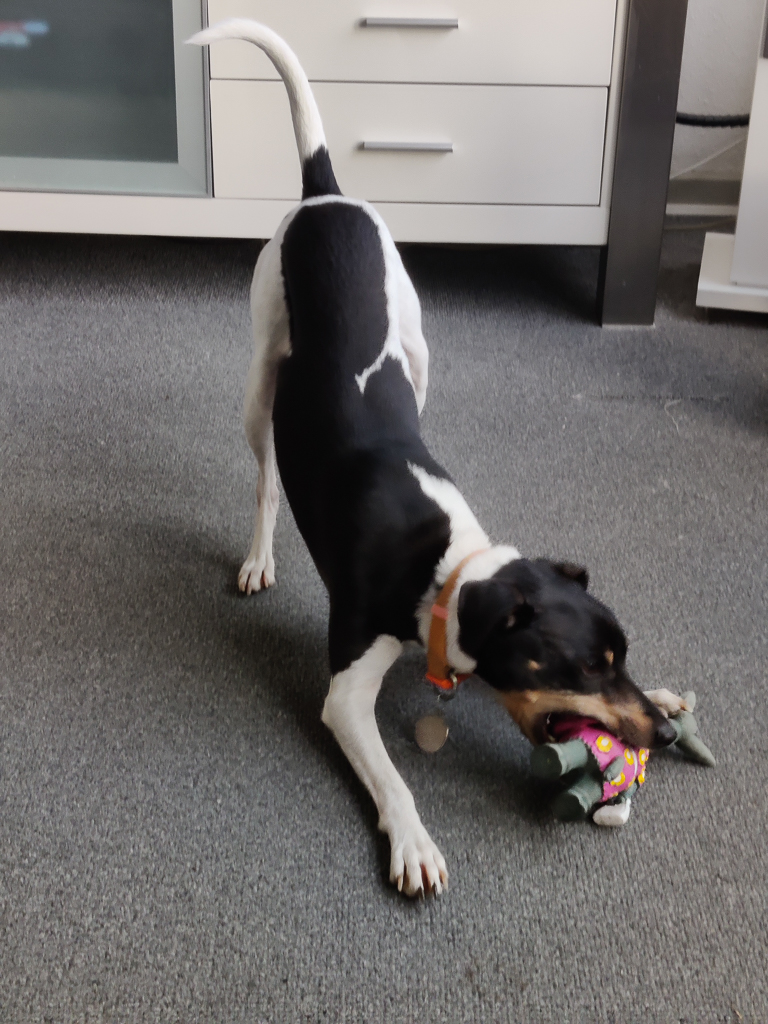Dog: (149, 11, 702, 917)
Humanoid: (515, 669, 730, 837)
